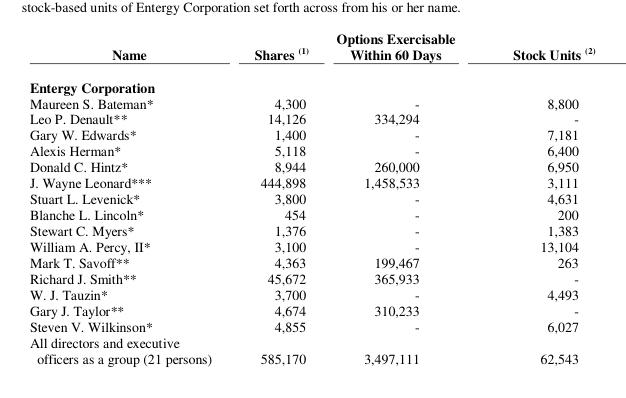table: (28, 28, 594, 366)
table column: (28, 28, 232, 366), (321, 28, 483, 366), (483, 28, 594, 366), (232, 28, 321, 366)
table column header: (28, 28, 594, 70)
table projected row header: (28, 70, 594, 94), (28, 333, 594, 349)
table row: (28, 28, 594, 70), (28, 70, 594, 94), (28, 189, 594, 206), (28, 349, 594, 366), (28, 94, 594, 110), (28, 110, 594, 126), (28, 126, 594, 142), (28, 157, 594, 173), (28, 173, 594, 189), (28, 221, 594, 237), (28, 237, 594, 253), (28, 253, 594, 269), (28, 269, 594, 285), (28, 285, 594, 301), (28, 301, 594, 317), (28, 317, 594, 333), (28, 333, 594, 349), (28, 142, 594, 157), (28, 206, 594, 221)
